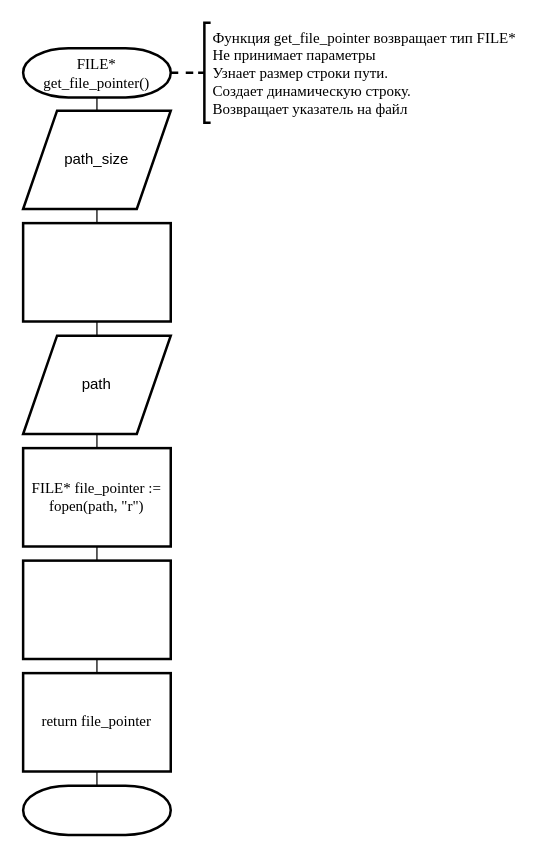
This 538x858 diagram has some shape labels left out. Each missing label, with the box of its shape:
free(path): (21, 559, 171, 660)
path := (char*) calloc(path_size, sizeof(char)): (21, 221, 171, 322)
Конец: (21, 784, 171, 836)
